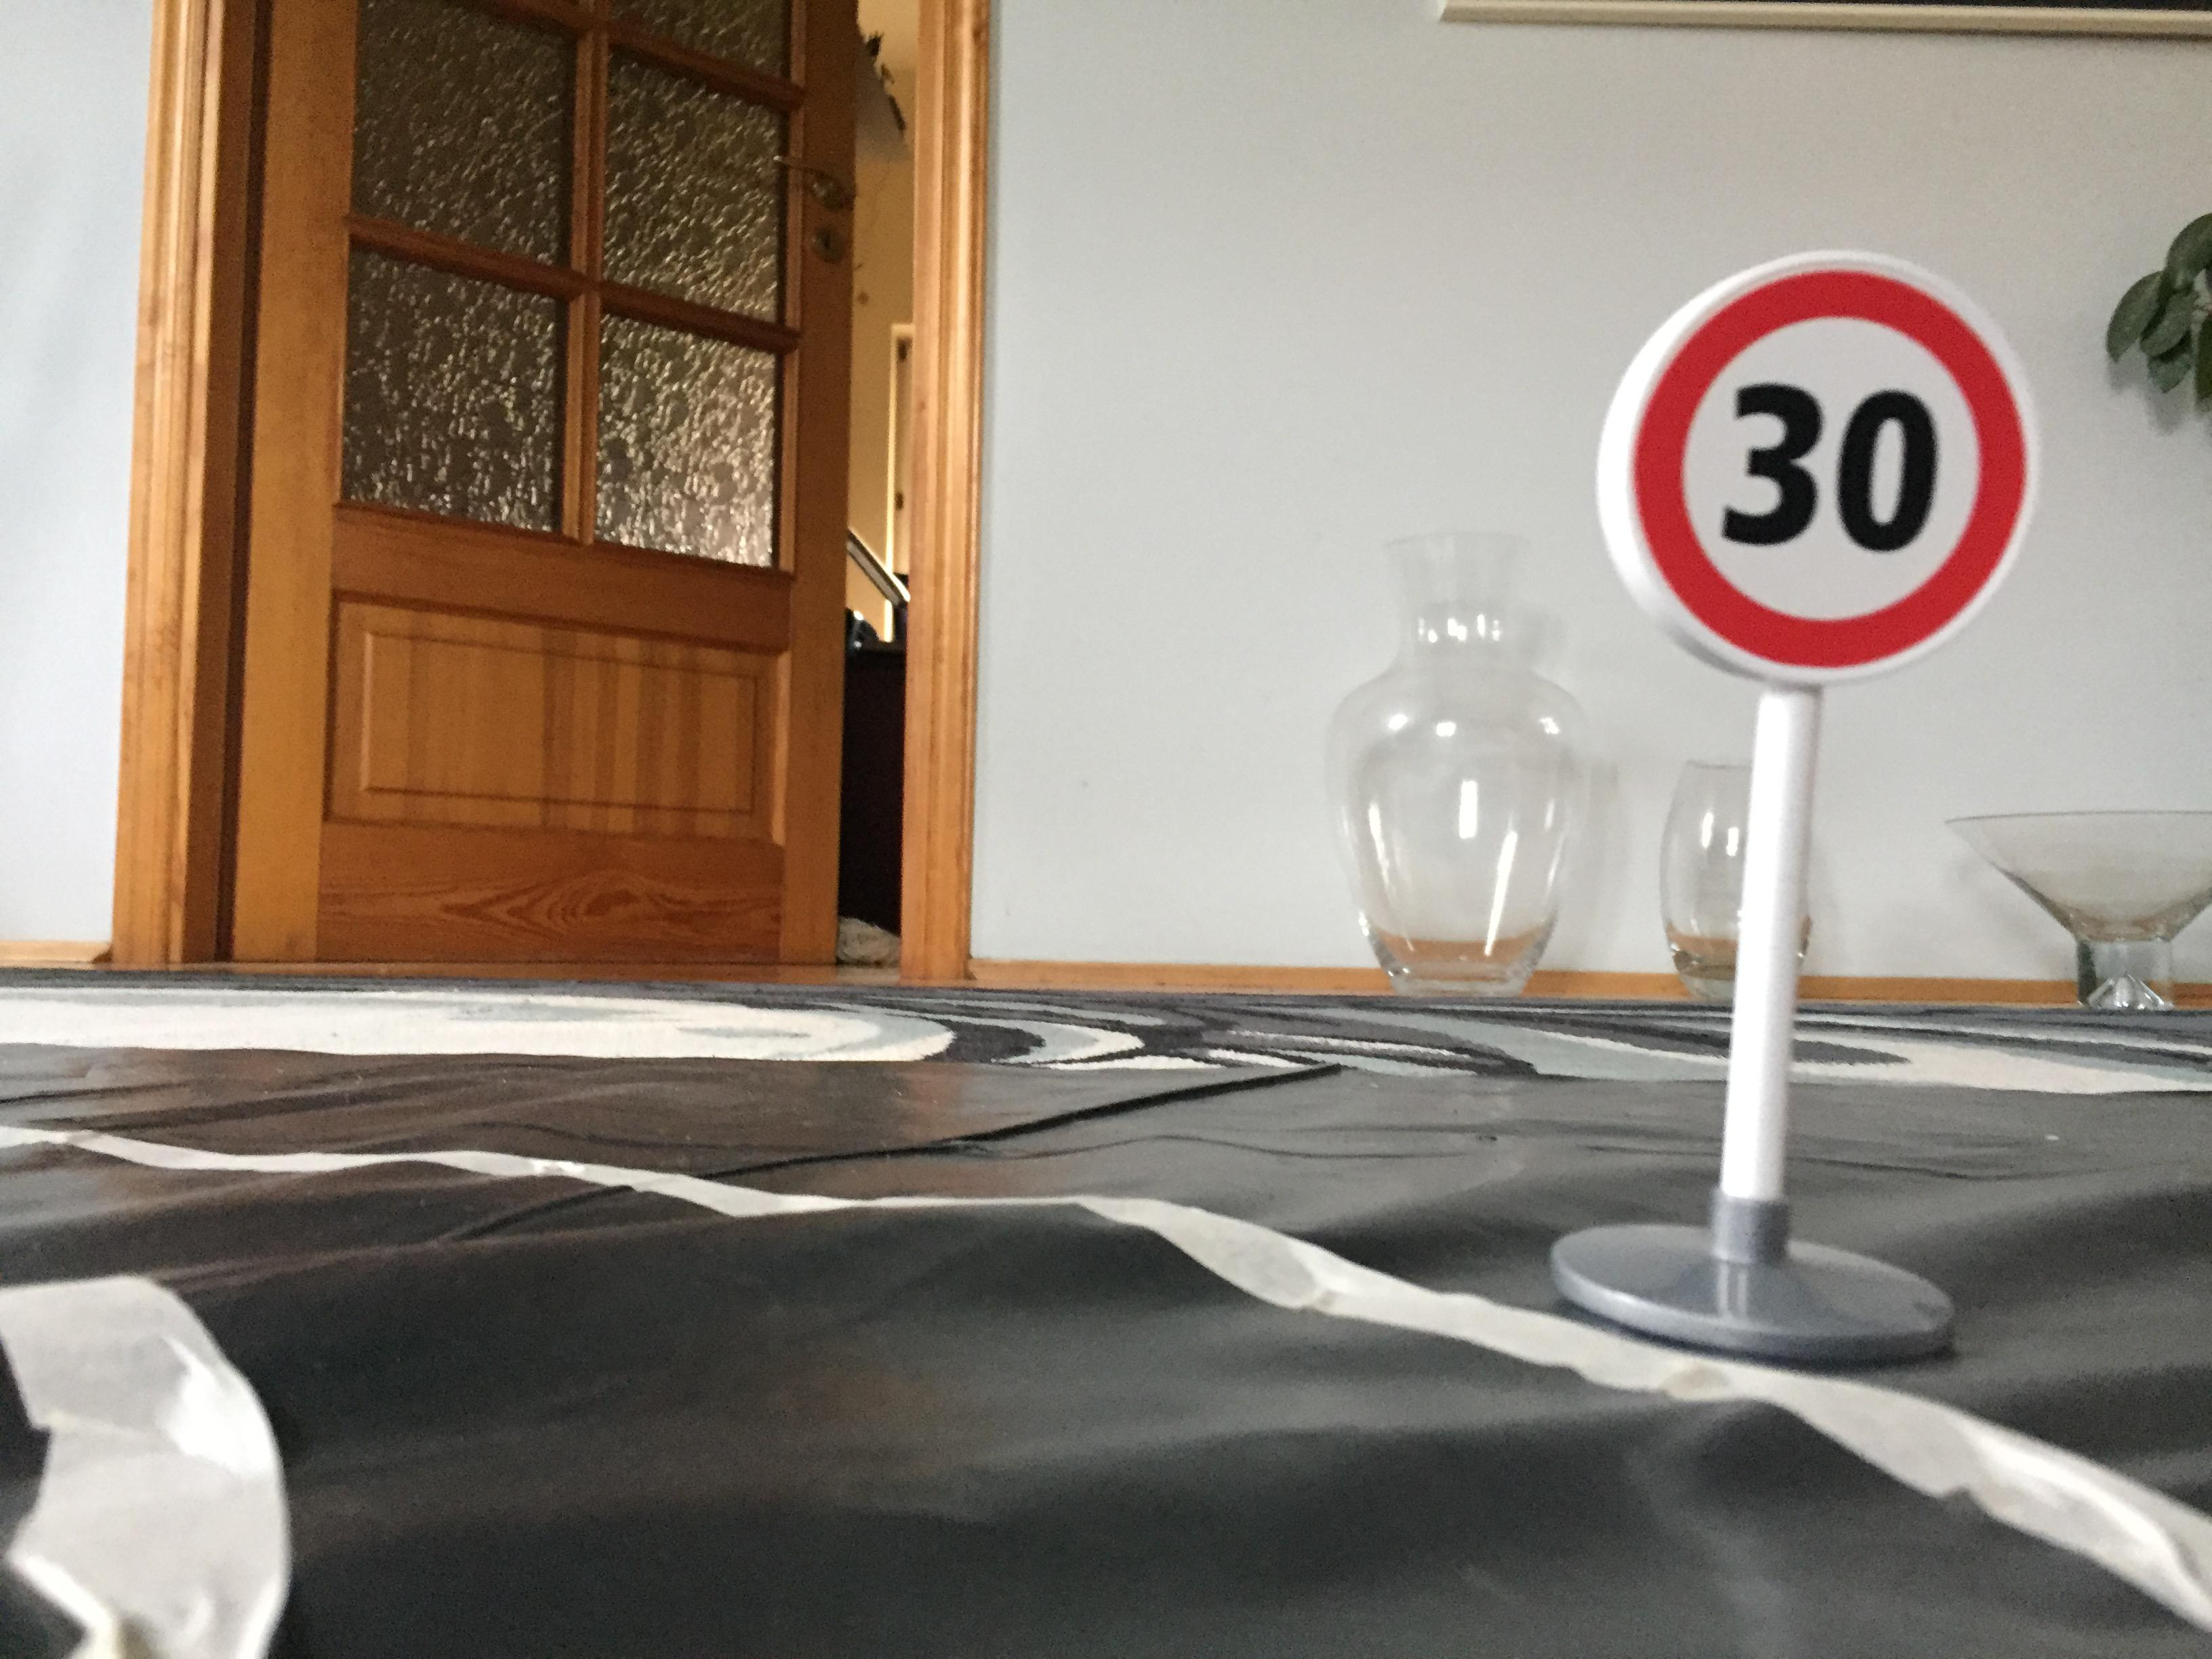speed: (1573, 218, 2069, 711)
